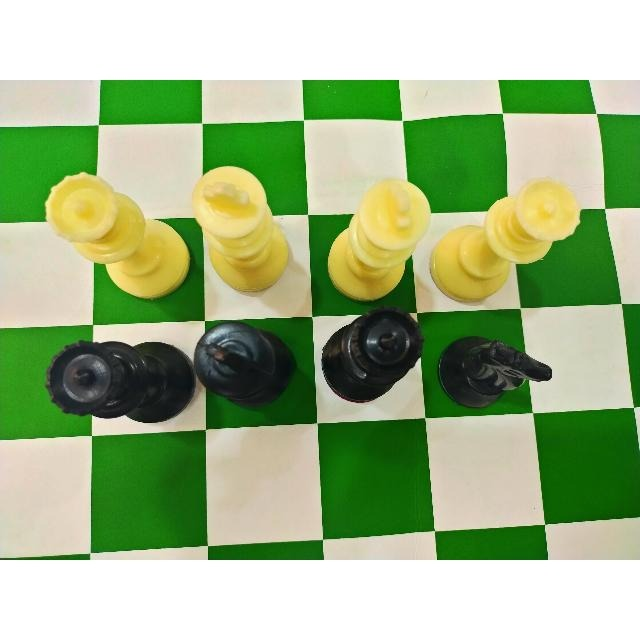black-king: (186, 318, 295, 417)
black-knight: (436, 325, 560, 420)
black-queen: (44, 327, 198, 433), (319, 306, 427, 413)
white-king: (314, 171, 434, 300), (189, 163, 299, 295)
white-queen: (430, 178, 590, 306), (40, 168, 190, 302)
